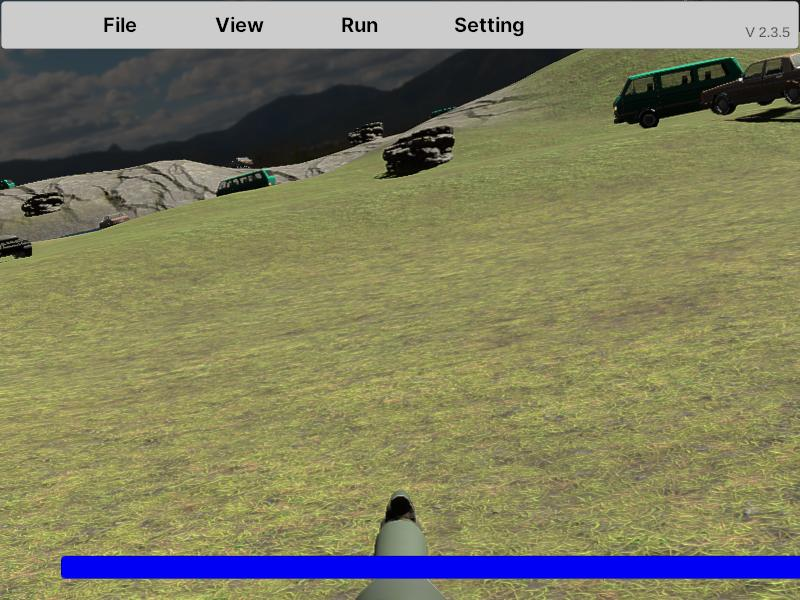Tank: (0, 234, 33, 260)
car: (613, 61, 743, 130), (699, 54, 800, 114)
